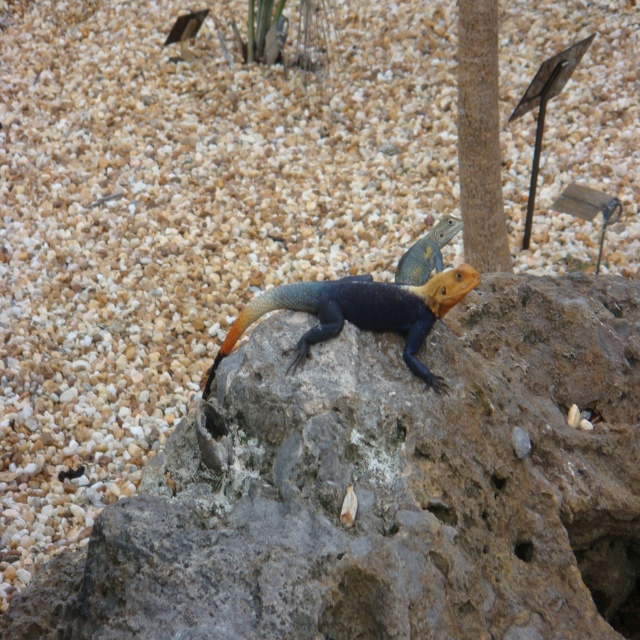Lizard: (218, 238, 482, 405)
